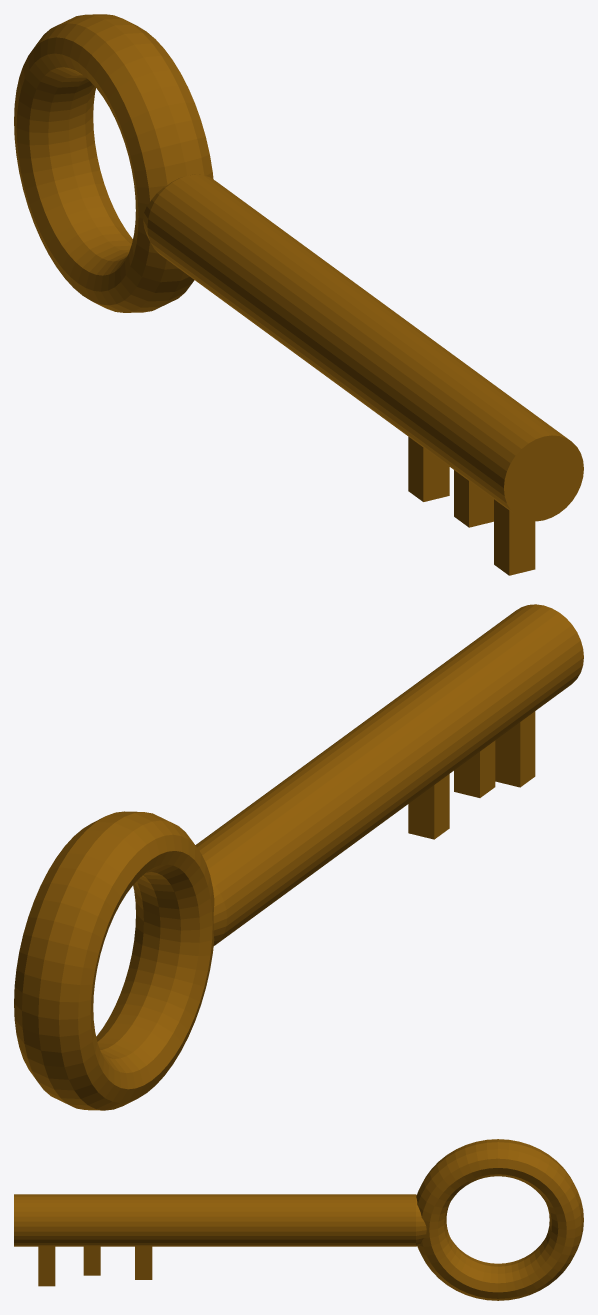
File: lock_key.obj
3 views of the same model, one above another, from view 1: azimuth 30°, elevation 25°; view 2: azimuth 150°, elevation 25°; view 3: azimuth 270°, elevation 25° (orthographic). The views are drawn at different scales.
Parts seen in each view (by area): view 1: Cylinder; view 2: Cylinder; view 3: Cylinder.
Part boxes in pixels (x1,y1,x2,y2): Cylinder: (14,14,583,575); Cylinder: (14,604,583,1110); Cylinder: (14,1139,583,1300).
Bounding box in the file's own units: 0.759 × 2.5 × 8.29.
